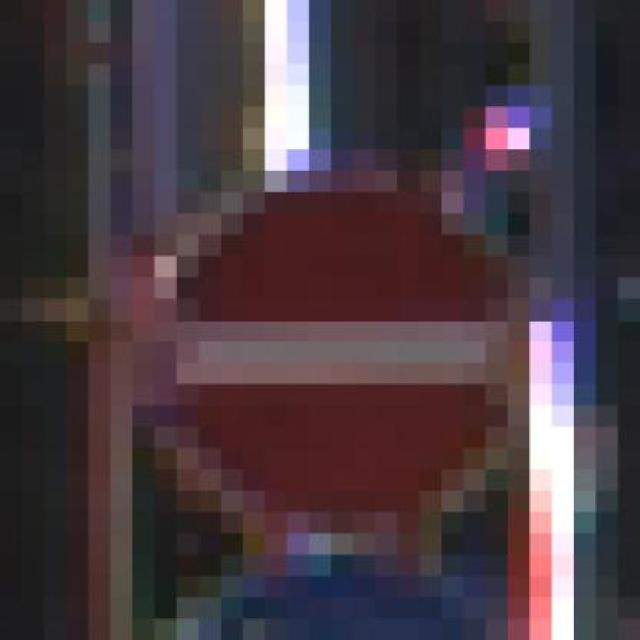No Entry: (96, 148, 558, 554)
